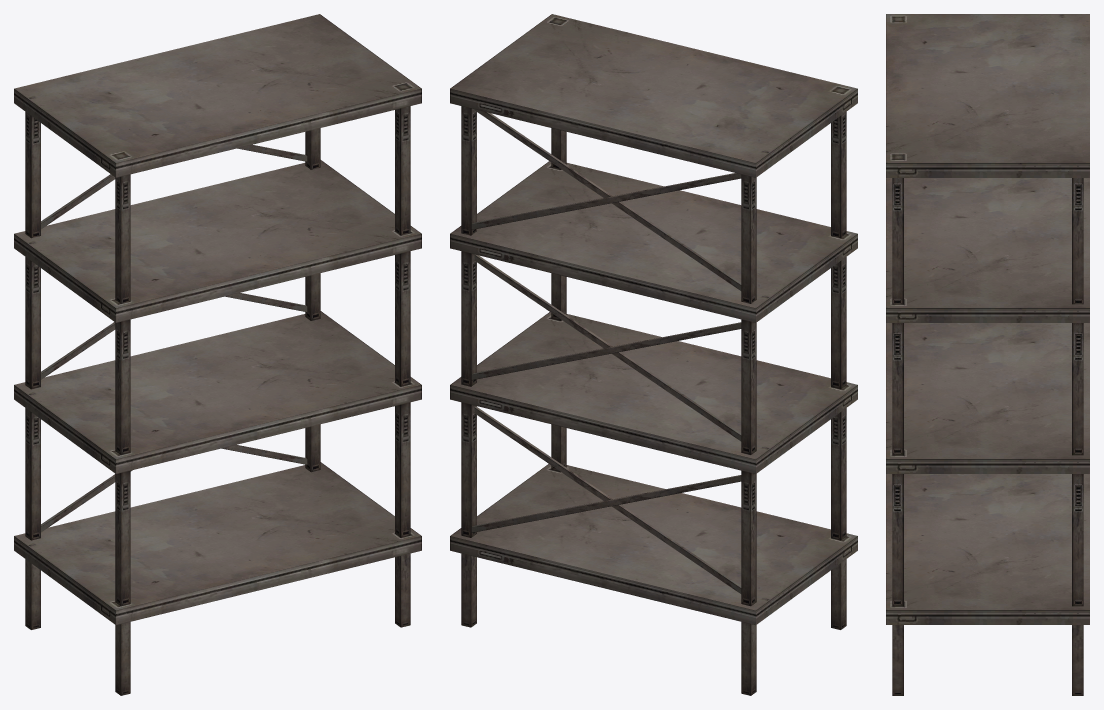
File: shelving_unit_lab.dae
3 renders of one model, left to right at view 1: azimuth 30°, elevation 25°; view 2: azimuth 150°, elevation 25°; view 3: azimuth 270°, elevation 25°, orthographic.
Visible parts, largest first — view 1: Mesh; view 2: Mesh; view 3: Mesh.
Boxes of the visible parts, x1,y1,x2,y2 form: Mesh: (14,14,421,695); Mesh: (450,14,857,695); Mesh: (886,14,1089,695).
Size of the model in its own units: 1.65 by 2.78 by 0.955.
